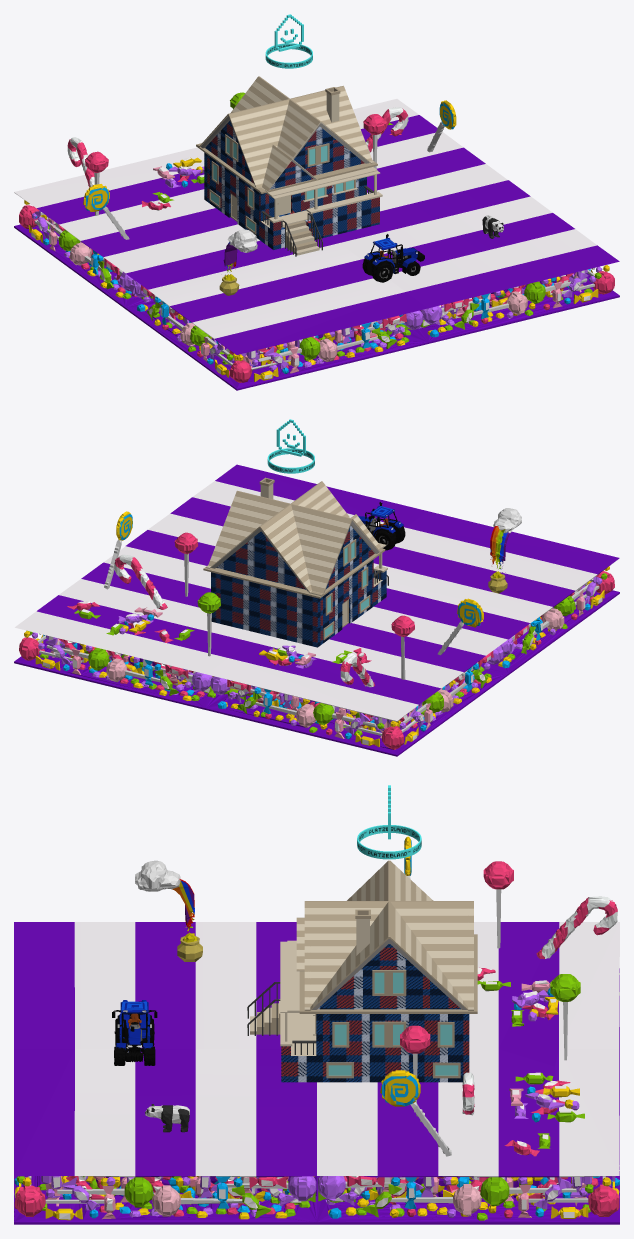
3 views of the same model, one above another, from view 1: azimuth 30°, elevation 25°; view 2: azimuth 150°, elevation 25°; view 3: azimuth 270°, elevation 25° (orthographic). The views are drawn at different scales.
Parts seen in each view (by area): view 1: TERRAIN_CANDY, Cube.171, VEHICLES_TRACTOR, OBJRANDOM_RAINBOW, TYPE_PREMIUM; view 2: TERRAIN_CANDY, Cube.171, OBJRANDOM_RAINBOW, VEHICLES_TRACTOR, TYPE_PREMIUM; view 3: TERRAIN_CANDY, Cube.171, VEHICLES_TRACTOR, OBJRANDOM_RAINBOW, TYPE_PREMIUM, ANIMAL_PANDA.
Boxes of the visible parts, <box> form: TERRAIN_CANDY: <box>14,92,619,390</box>; Cube.171: <box>196,76,382,256</box>; VEHICLES_TRACTOR: <box>362,234,424,282</box>; OBJRANDOM_RAINBOW: <box>219,229,257,295</box>; TYPE_PREMIUM: <box>265,14,312,68</box>; TERRAIN_CANDY: <box>14,464,619,756</box>; Cube.171: <box>203,477,388,647</box>; OBJRANDOM_RAINBOW: <box>488,508,521,593</box>; VEHICLES_TRACTOR: <box>358,502,405,550</box>; TYPE_PREMIUM: <box>267,419,314,473</box>; TERRAIN_CANDY: <box>14,836,619,1224</box>; Cube.171: <box>247,860,477,1082</box>; VEHICLES_TRACTOR: <box>112,1000,157,1065</box>; OBJRANDOM_RAINBOW: <box>135,860,202,961</box>; TYPE_PREMIUM: <box>357,785,421,859</box>; ANIMAL_PANDA: <box>145,1104,189,1132</box>.
Size of the model in its own units: 4059 by 2354 by 4000.
29 materials, 4 textured.
